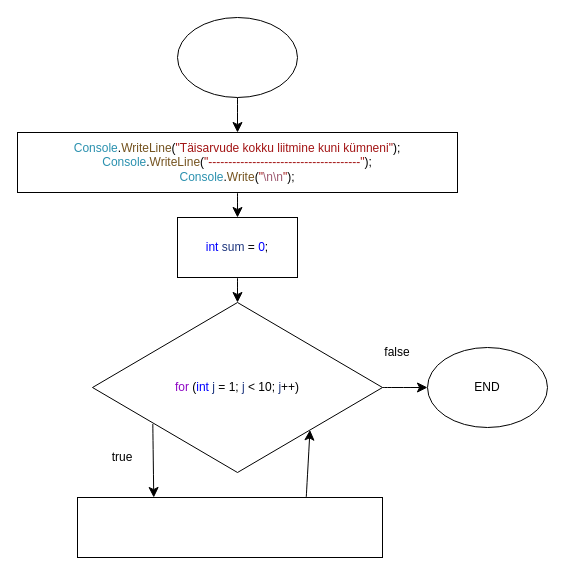
The diagram is 565 pixels wide and 575 high, and some of its shapes have lost their labels. The shapes that lost their labels are listed below. From the top down, each one's centre as x and y in pixels, then its label:
(x=237, y=57): START
(x=229, y=527): sum = sum + j ; Console . WriteLine ( "Summa on: " + sum );
